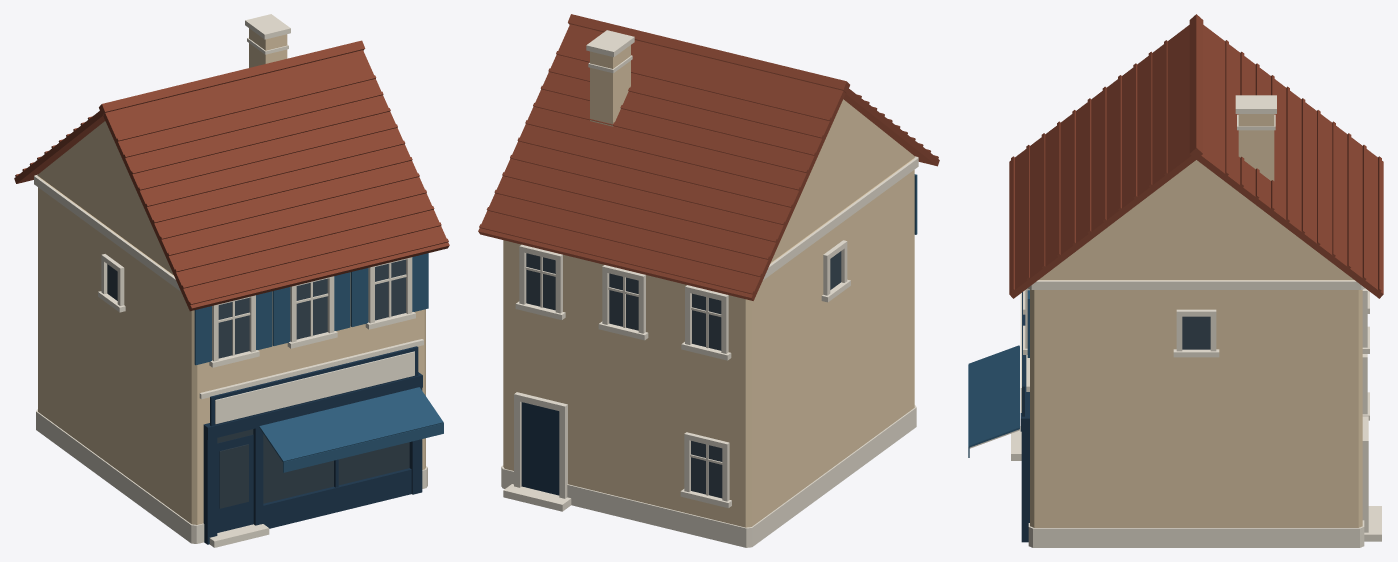
File: boutique-b.glb
3 views of the same model, side by side, from view 1: azimuth 30°, elevation 25°; view 2: azimuth 150°, elevation 25°; view 3: azimuth 270°, elevation 25° (orthographic). The views are drawn at different scales.
Visible parts, largest first — view 1: boutique-b; view 2: boutique-b; view 3: boutique-b.
Part boxes in pixels (bbox=[...]): boutique-b: bbox=[14, 14, 449, 547]; boutique-b: bbox=[478, 14, 939, 547]; boutique-b: bbox=[968, 14, 1383, 547].
Bounding box in the file's own units: 6.66 × 9.71 × 8.74.
